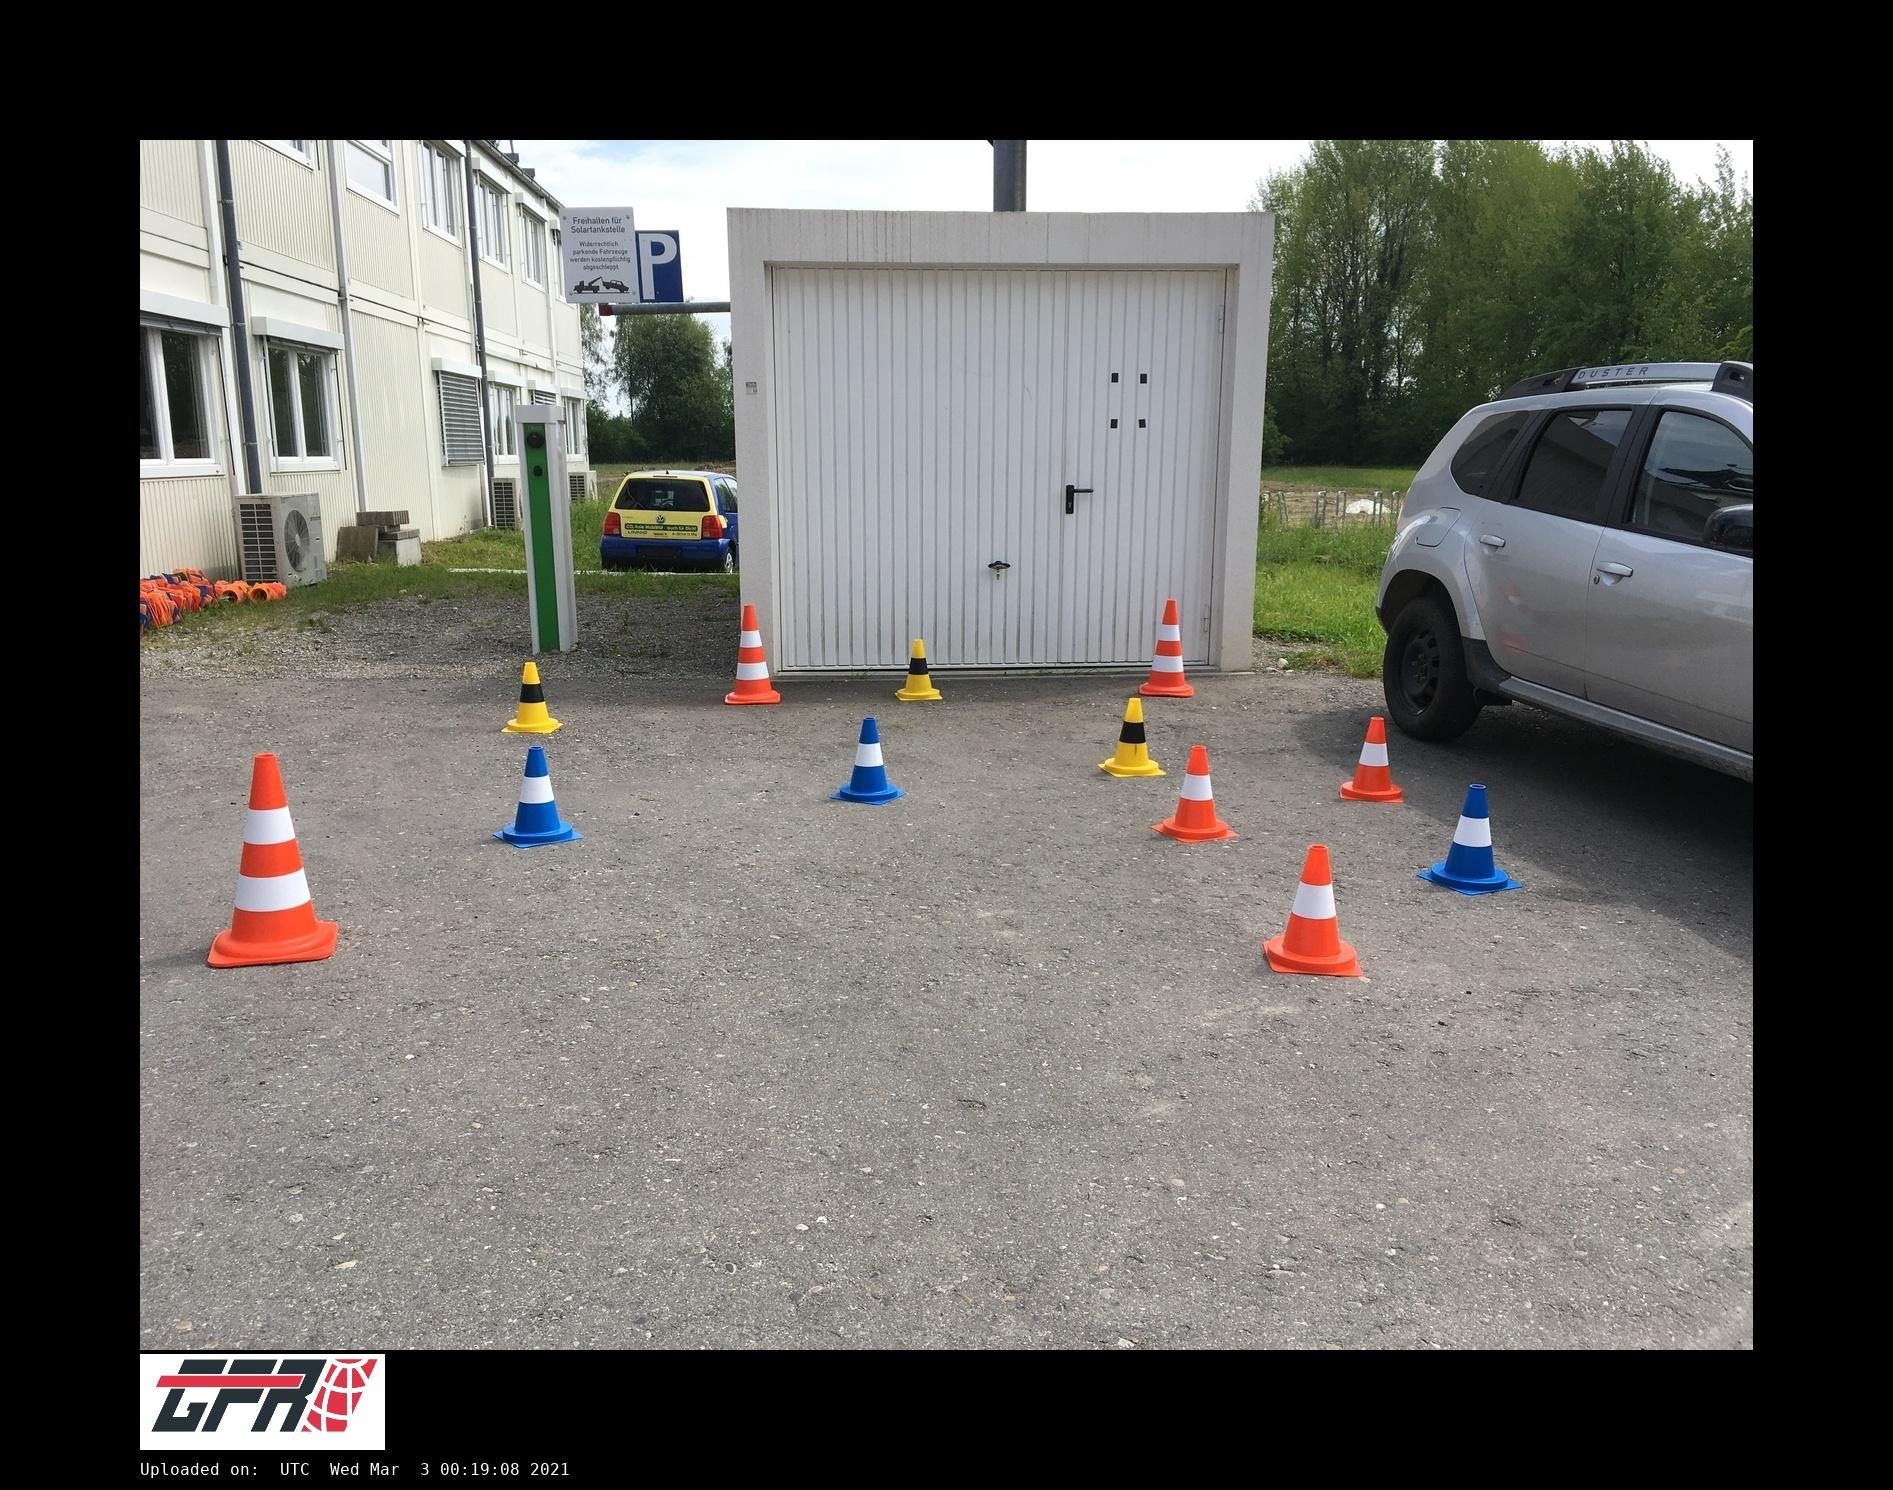blue_cone: (1418, 783, 1520, 894), (495, 747, 585, 846), (831, 717, 905, 805)
large_orange_cone: (211, 754, 333, 965), (727, 605, 782, 704), (1142, 601, 1192, 697)
orange_cone: (1265, 845, 1361, 975), (1155, 745, 1240, 840), (1341, 717, 1403, 802)
yellow_cone: (1099, 697, 1168, 777), (502, 662, 562, 733), (897, 641, 943, 700)
